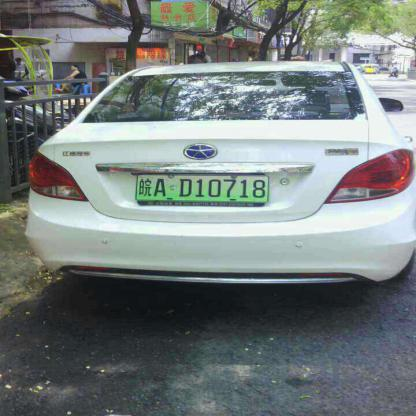lp: (136, 175, 267, 201)
